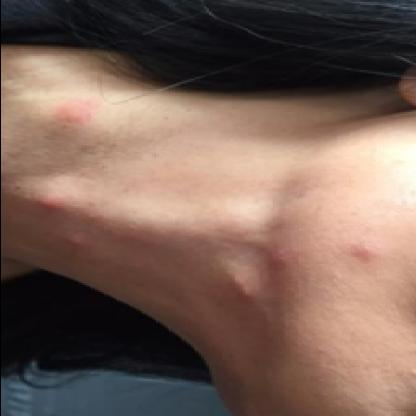Bed Bug: (49, 94, 99, 127), (223, 276, 266, 311), (254, 245, 304, 269), (29, 189, 68, 217), (351, 238, 390, 264), (63, 231, 90, 250)
